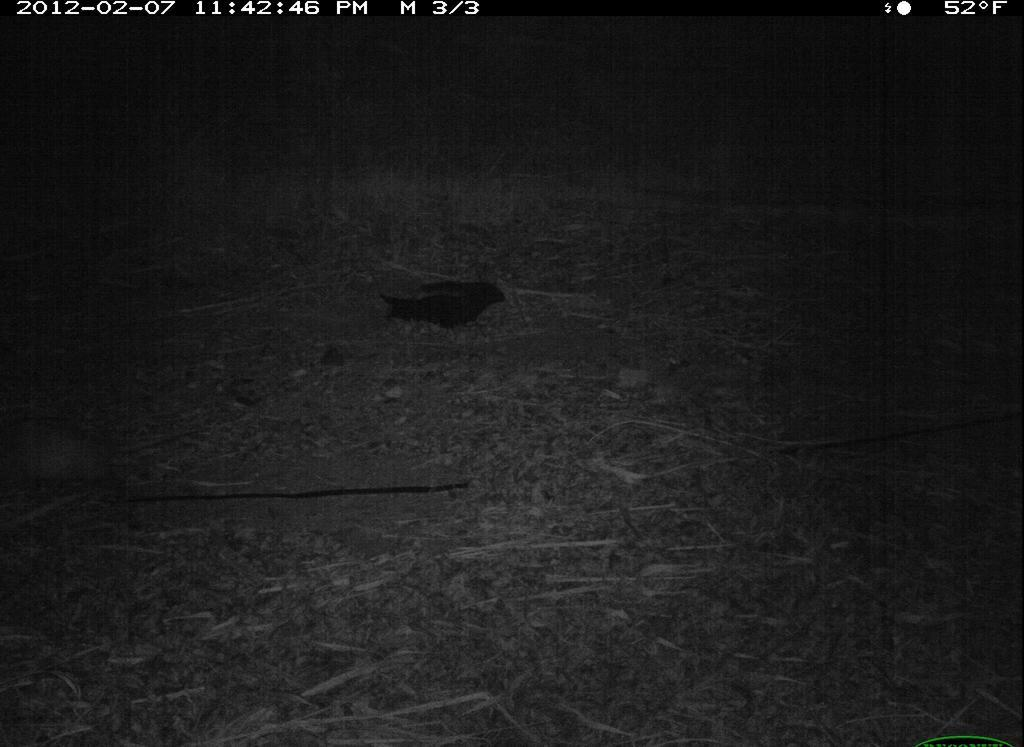opossum: (7, 385, 185, 538)
